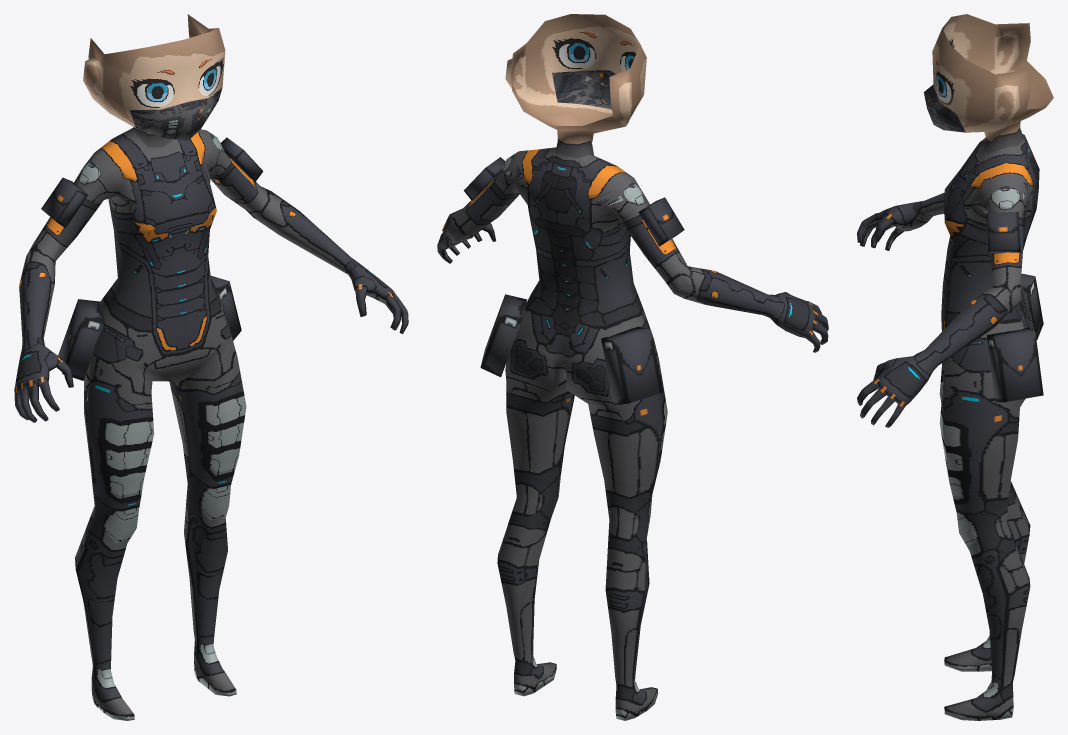
File: Chibi_Female.obj
3 views of the same model, side by side, from view 1: azimuth 30°, elevation 25°; view 2: azimuth 150°, elevation 25°; view 3: azimuth 270°, elevation 25° (orthographic).
Visible parts, largest first — view 1: Cube.007_Cube.022; view 2: Cube.007_Cube.022; view 3: Cube.007_Cube.022.
Part boxes in pixels (left/top/right/bottom): Cube.007_Cube.022: left=14, top=14, right=408, bottom=720; Cube.007_Cube.022: left=437, top=14, right=828, bottom=720; Cube.007_Cube.022: left=857, top=14, right=1053, bottom=720.
Size of the model in its own units: 94.39 by 158 by 42.4.
